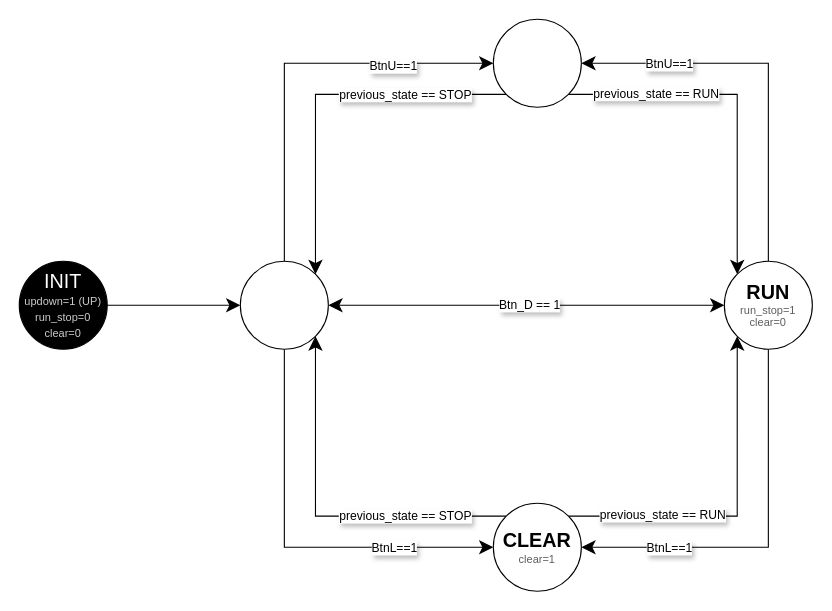
Image size: 832x611. Some labels were removed from this diagram. The shapes that lost their labels are listed below. From the top down, each one's box as (x1, y1, x2, y2) in pixels, then its label:
(492, 18, 581, 107): UPDOWN updown=~updown
(239, 260, 328, 349): STOP run_stop=0 clear=0
